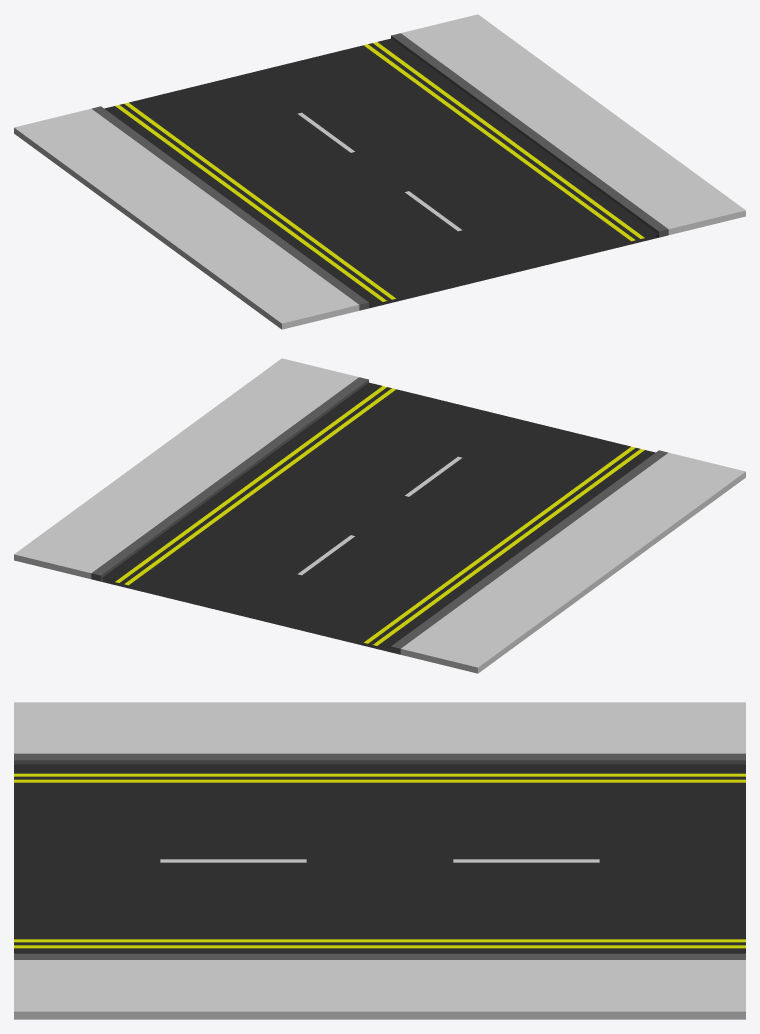
Rendered from m_e_s_road.fbx.
3 renders of one model, top to bottom at view 1: azimuth 30°, elevation 25°; view 2: azimuth 150°, elevation 25°; view 3: azimuth 270°, elevation 25°, orthographic. The views are drawn at different scales.
Visible parts, largest first — view 1: Cube, Cube.001, Cube.002; view 2: Cube, Cube.001, Cube.002; view 3: Cube, Cube.002, Cube.001.
Boxes of the visible parts, x1,y1,x2,y2 form: Cube: (104,38,658,308); Cube.001: (14,106,368,329); Cube.002: (391,14,745,237); Cube: (101,382,655,652); Cube.001: (391,450,745,673); Cube.002: (14,358,368,581); Cube: (14,764,745,953); Cube.002: (14,953,745,1019); Cube.001: (14,702,745,764).
Size of the model in its own units: 1600 by 20 by 1600.
